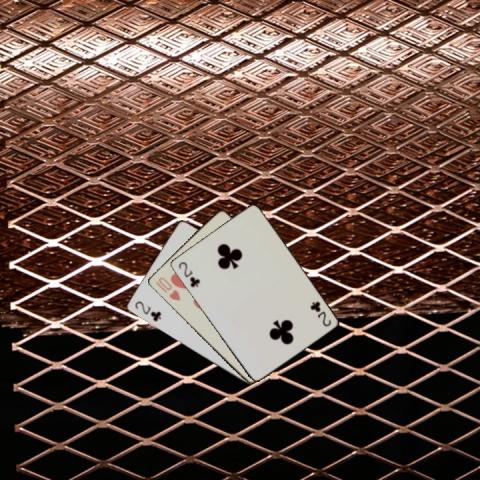10h: (152, 274, 181, 302)
2c: (131, 298, 163, 323), (176, 258, 202, 288), (306, 298, 332, 328)
